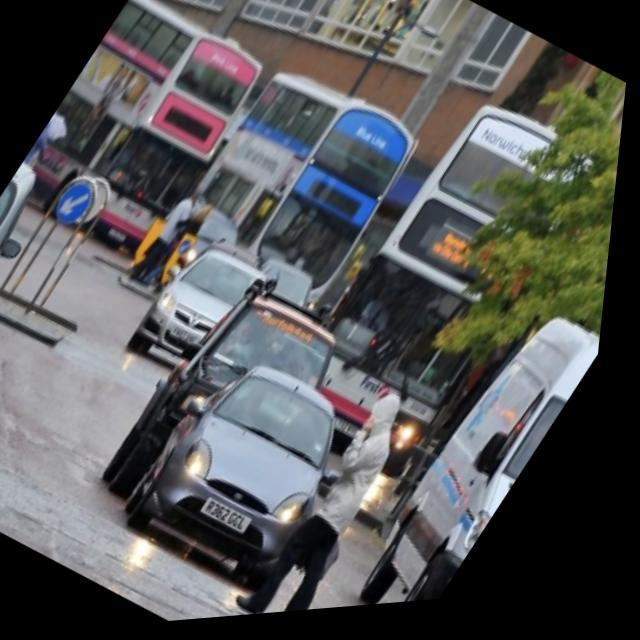license_plate: (202, 488, 272, 546)
